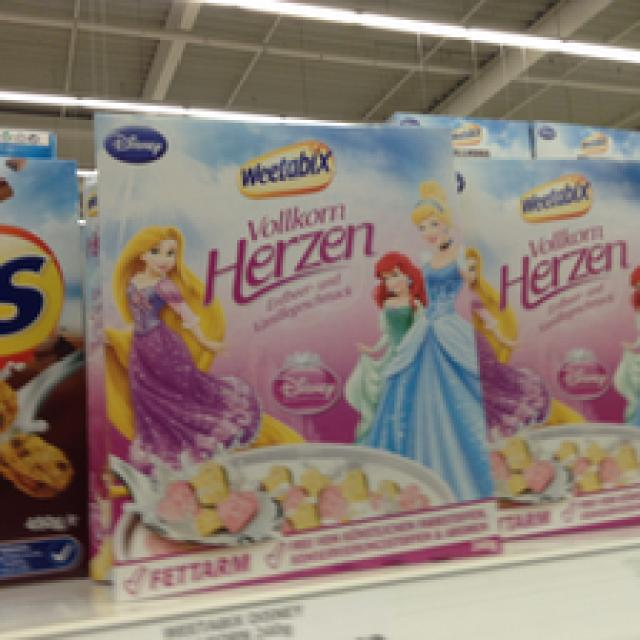groceries: (89, 109, 494, 594), (440, 154, 637, 537)
